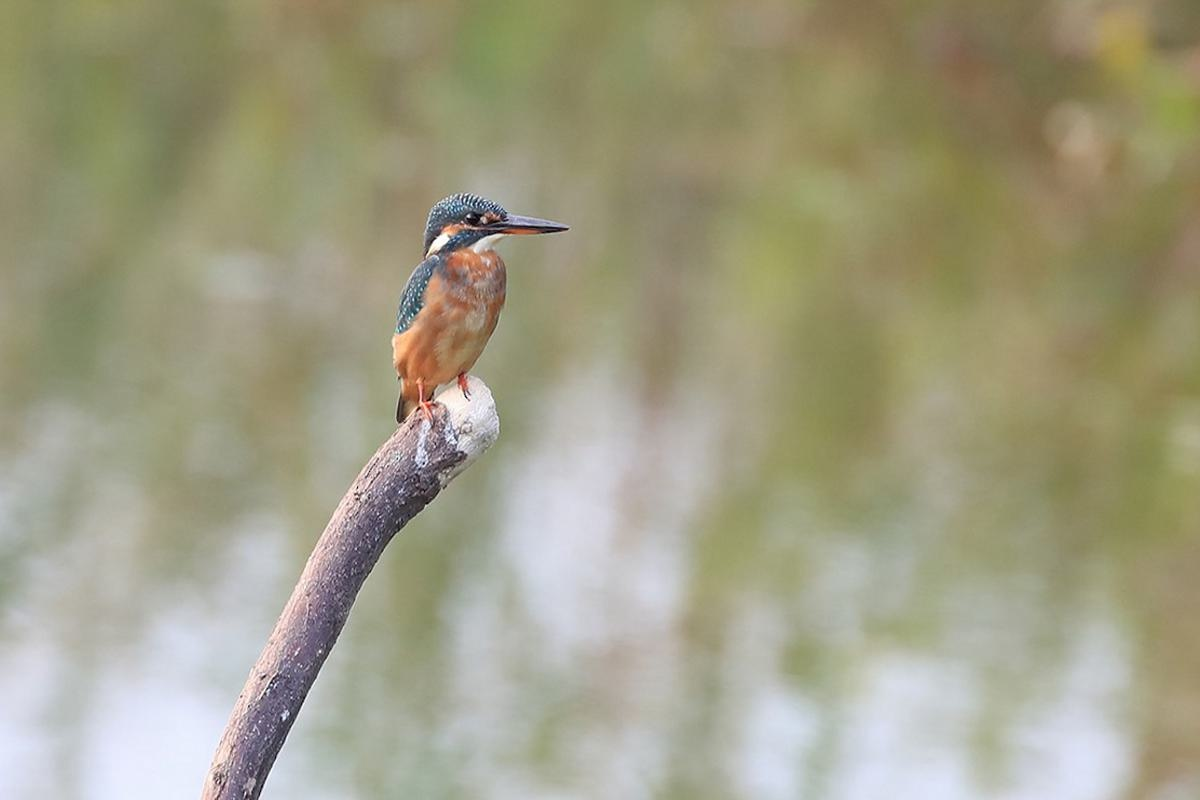kingfisher: (398, 184, 575, 425)
